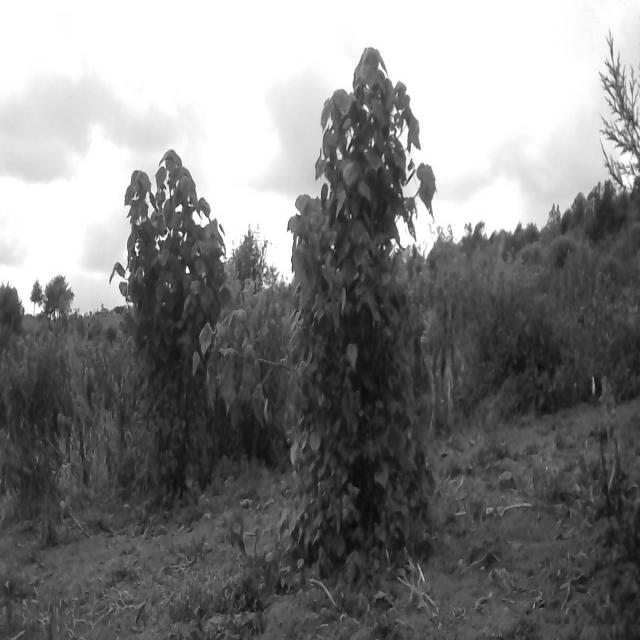Dombeya torrida: (297, 31, 452, 582), (107, 146, 237, 501)
